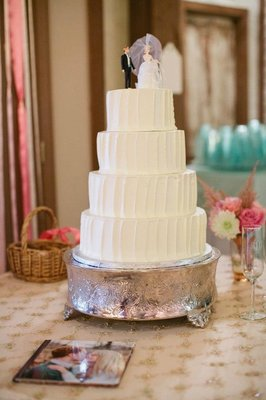curry: (0, 244, 266, 399)
sandwich: (238, 226, 266, 321)
sushi: (63, 20, 217, 322), (63, 109, 220, 322), (71, 49, 208, 268)
